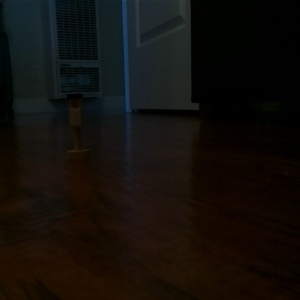traffic light red: (61, 90, 93, 162)
